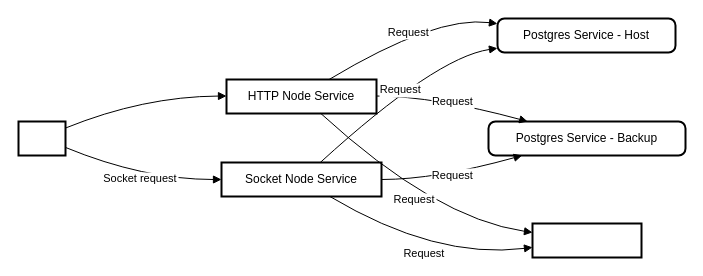
Image size: 703x276. Some labels were removed from this diagram. Here are the shapes that lost their labels. From the top down, the centre of each, then its label:
At point 41,138: "User".
At point 586,240: "Redis Service".
